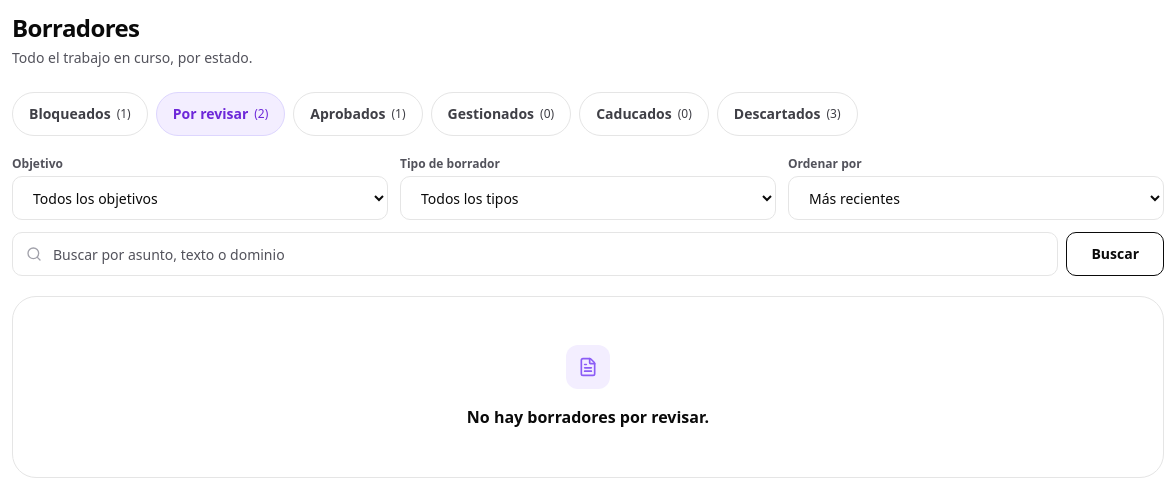
Borradores: vacíos y errores › el grupo bloqueados vacío dice la verdad: «No hay borradores bloqueados.»
Expected: the heading "No hay borradores por revisar." is shown, 467,405 -> 709,429
Click the button "Bloqueados (1)".
click(80, 114)  # box 12,92 -> 148,136
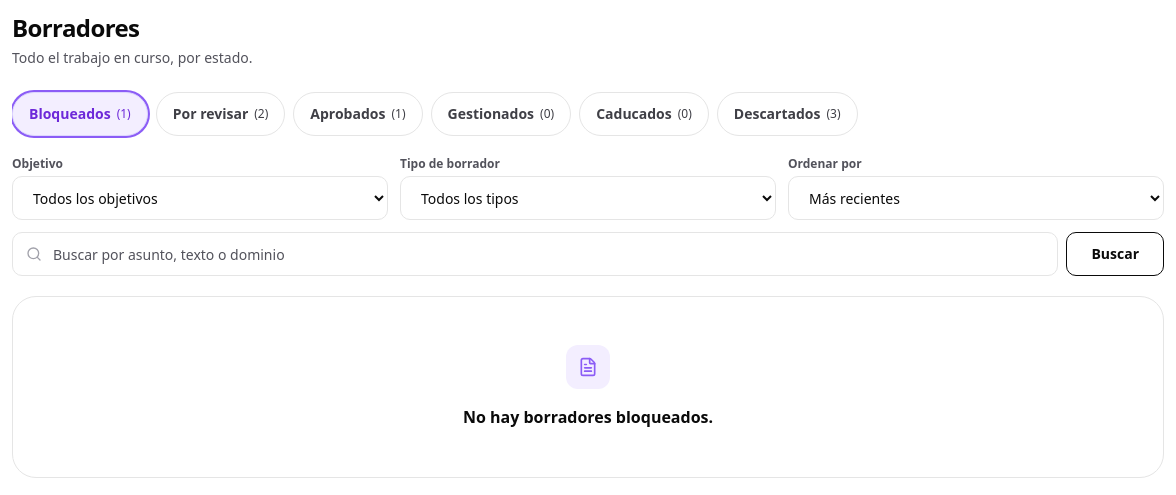
Expected: the heading "No hay borradores bloqueados." is shown, 463,405 -> 713,429
